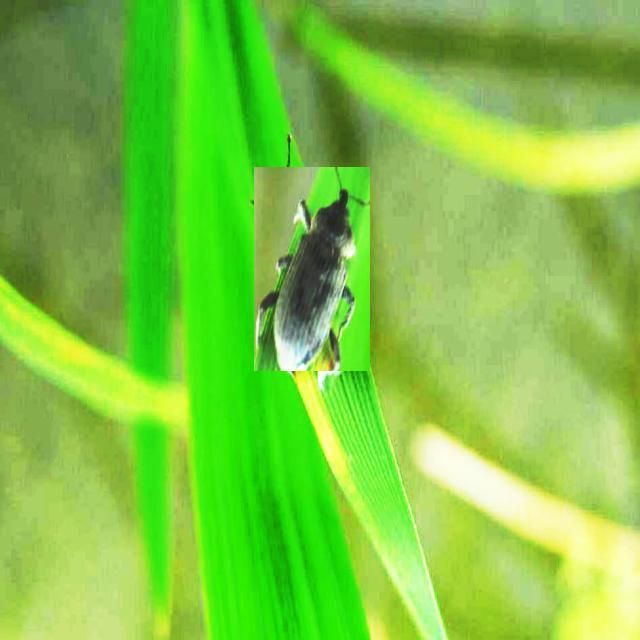rice-bug: (254, 167, 370, 371)
